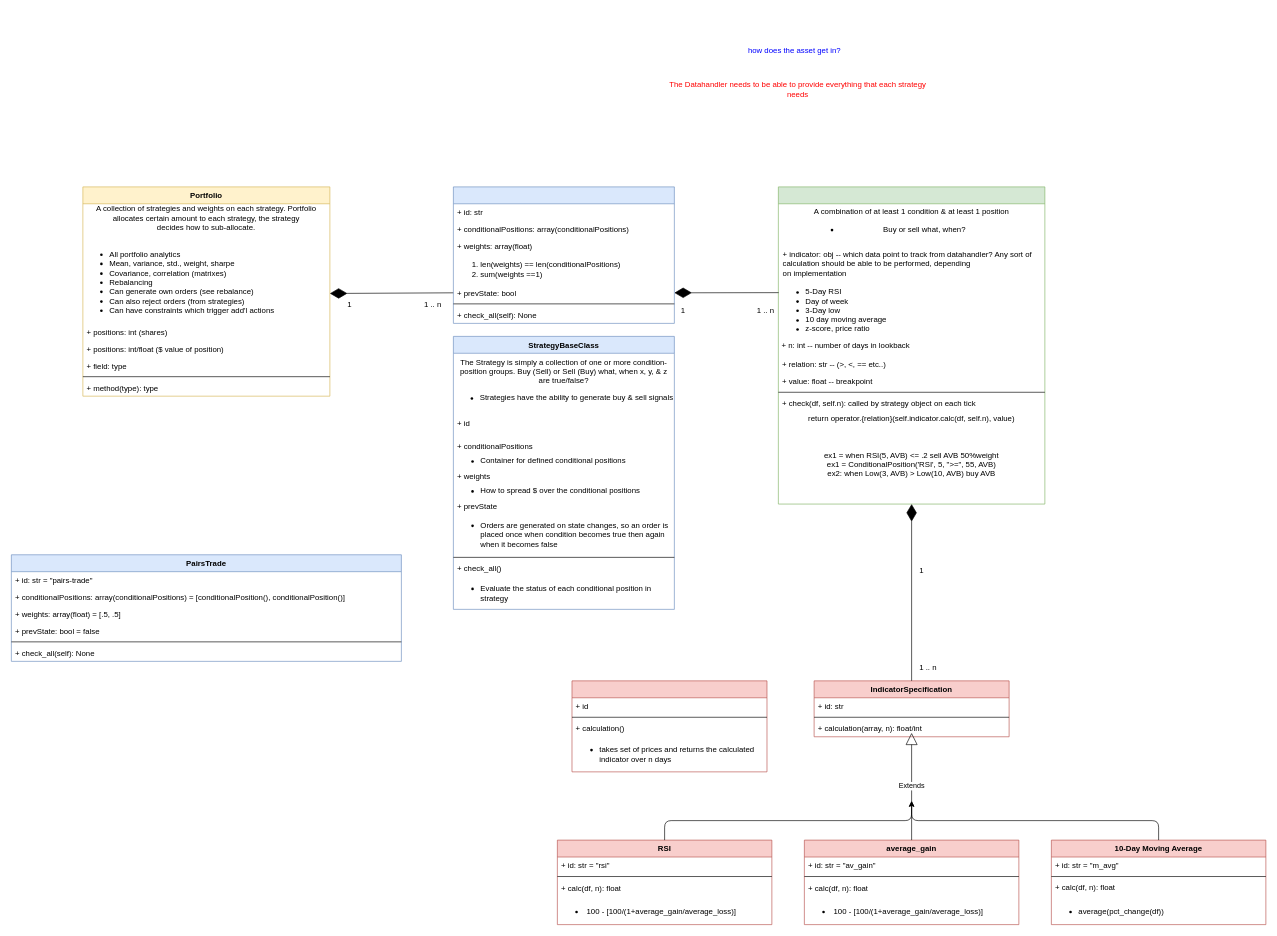
The diagram is 1277 pixels wide and 936 high, and some of its shapes have lost their labels. The shapes that lost their labels are listed below. From the top down, each one's box as (x1, y1, x2, y2) in pixels, then its label:
(453, 186, 674, 323): StrategySpecification
(778, 186, 1045, 504): ConditionalPositionSpecification
(571, 680, 767, 772): IndicatorBaseClass
